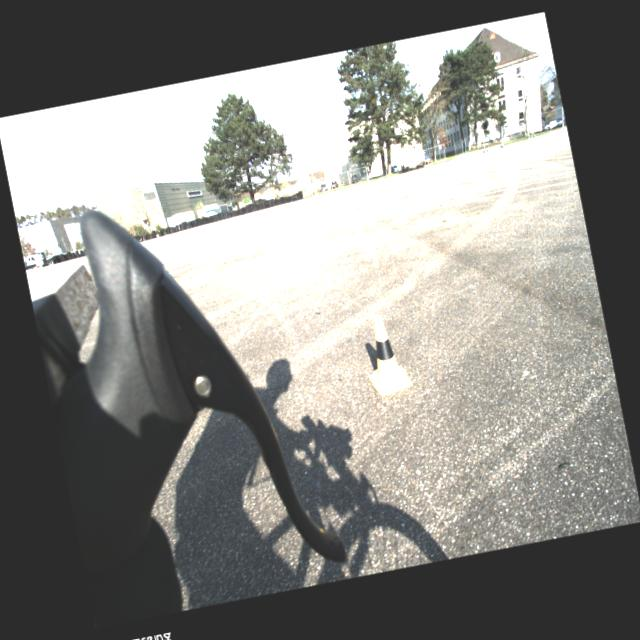yellow_cone: (358, 313, 413, 398)
